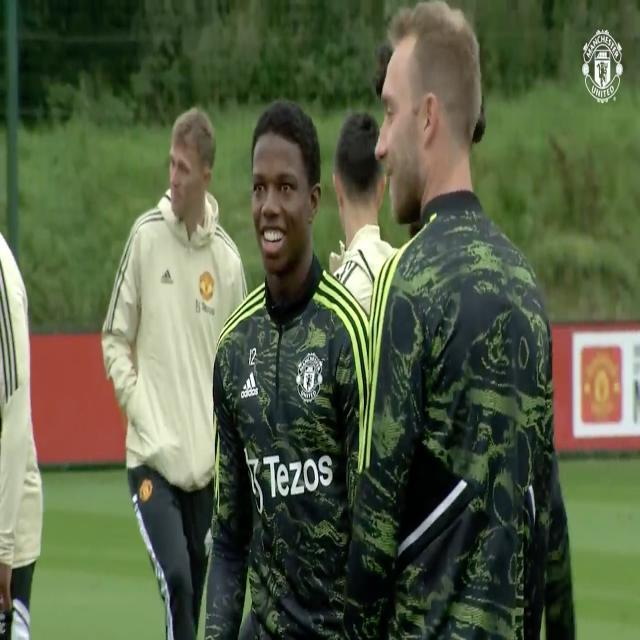Adidas: (240, 369, 261, 402), (160, 264, 175, 286)
